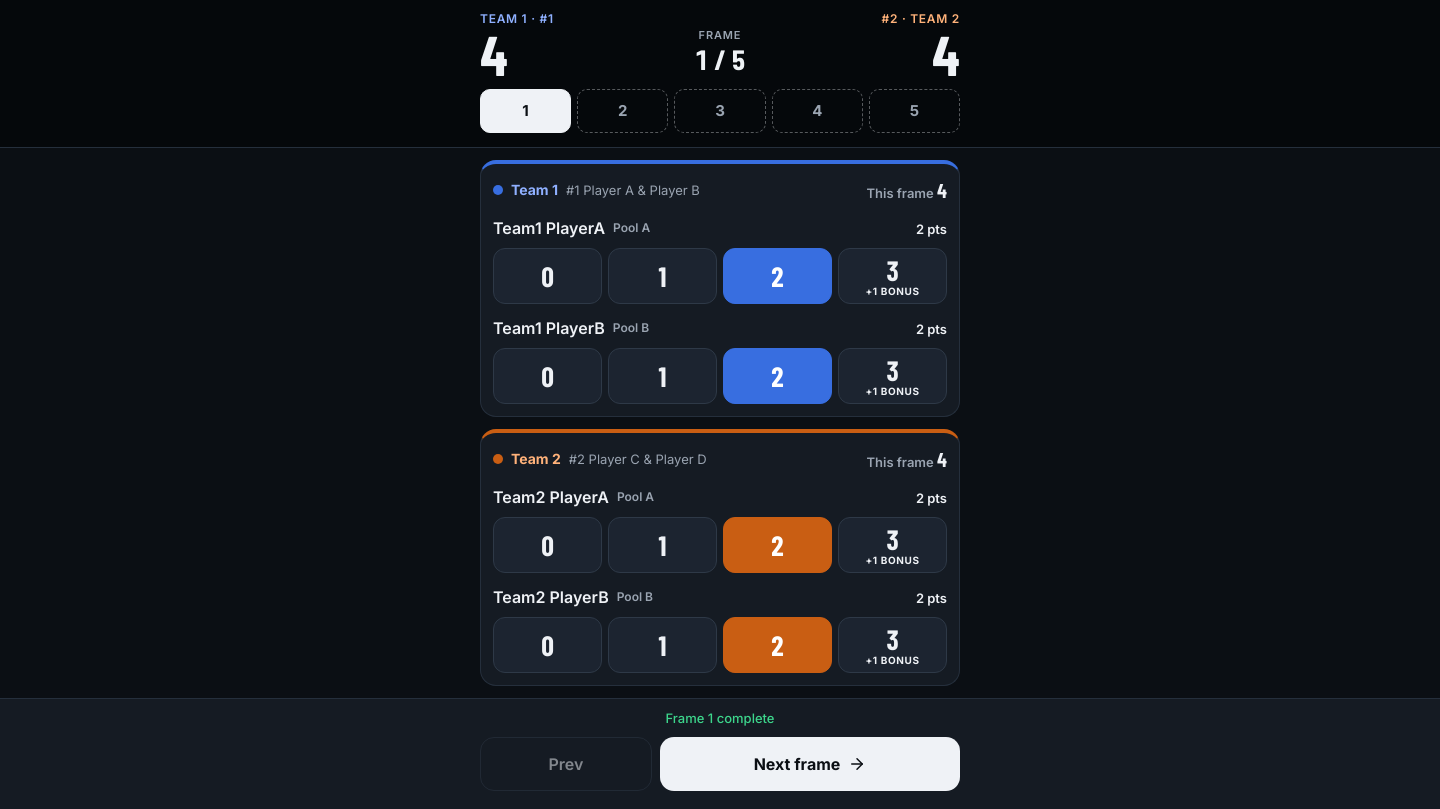
Test case: FrameWizard › Loading states › shows loading state on navigation buttons while saving
(page scrolled)
Click the button "Next frame": (810, 764) [660,737,960,791]
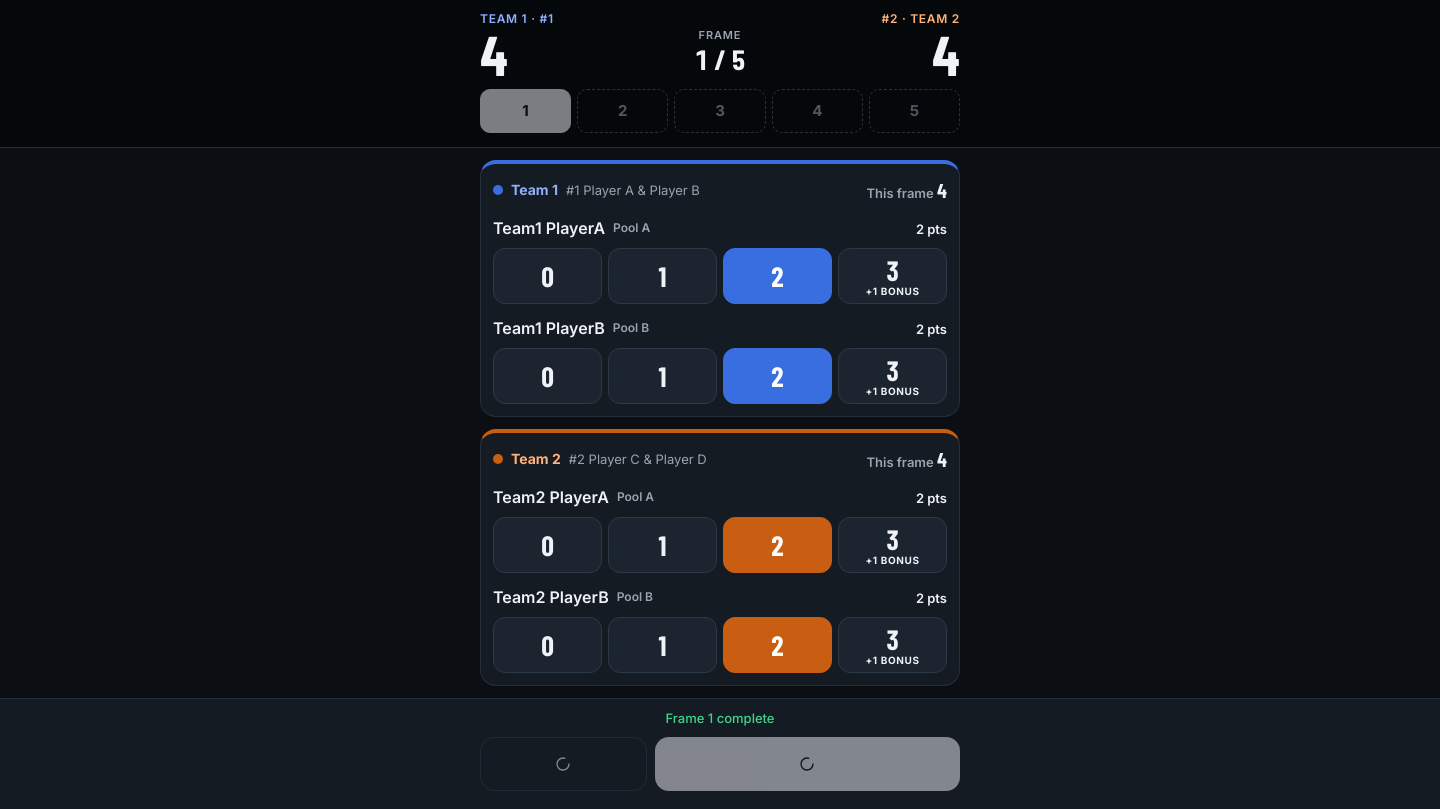
expect the button named "go to frame" is disabled: met, box [480,89,571,133]
